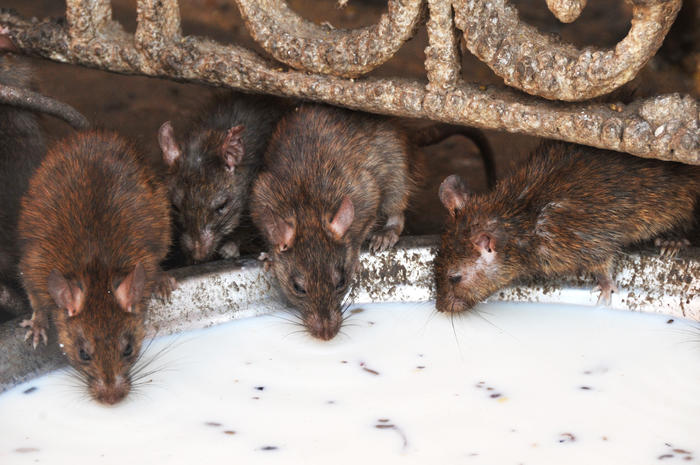rat: (11, 108, 181, 422), (242, 107, 414, 347), (428, 142, 646, 319), (154, 95, 280, 272)
